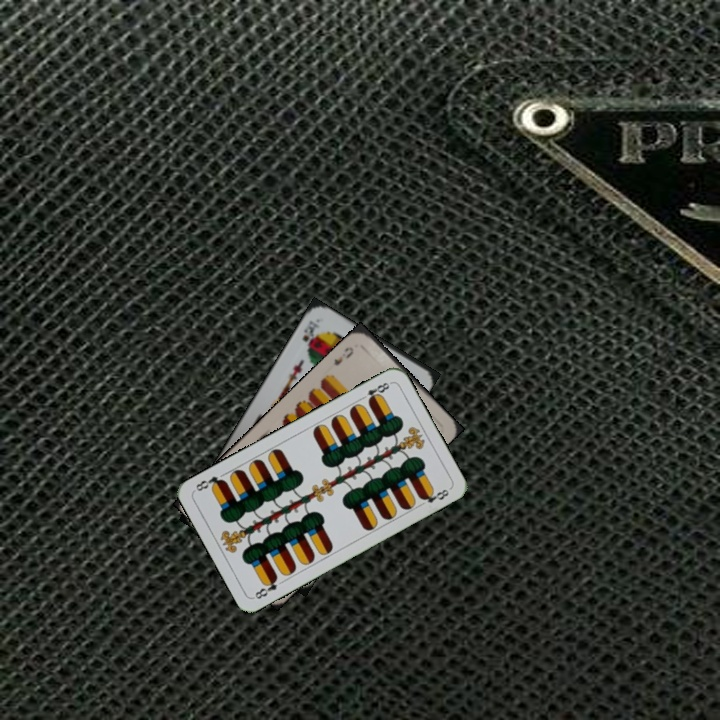E8: (356, 378, 394, 405), (250, 572, 280, 602)
E9: (330, 343, 356, 368)
SK: (298, 316, 322, 348)
